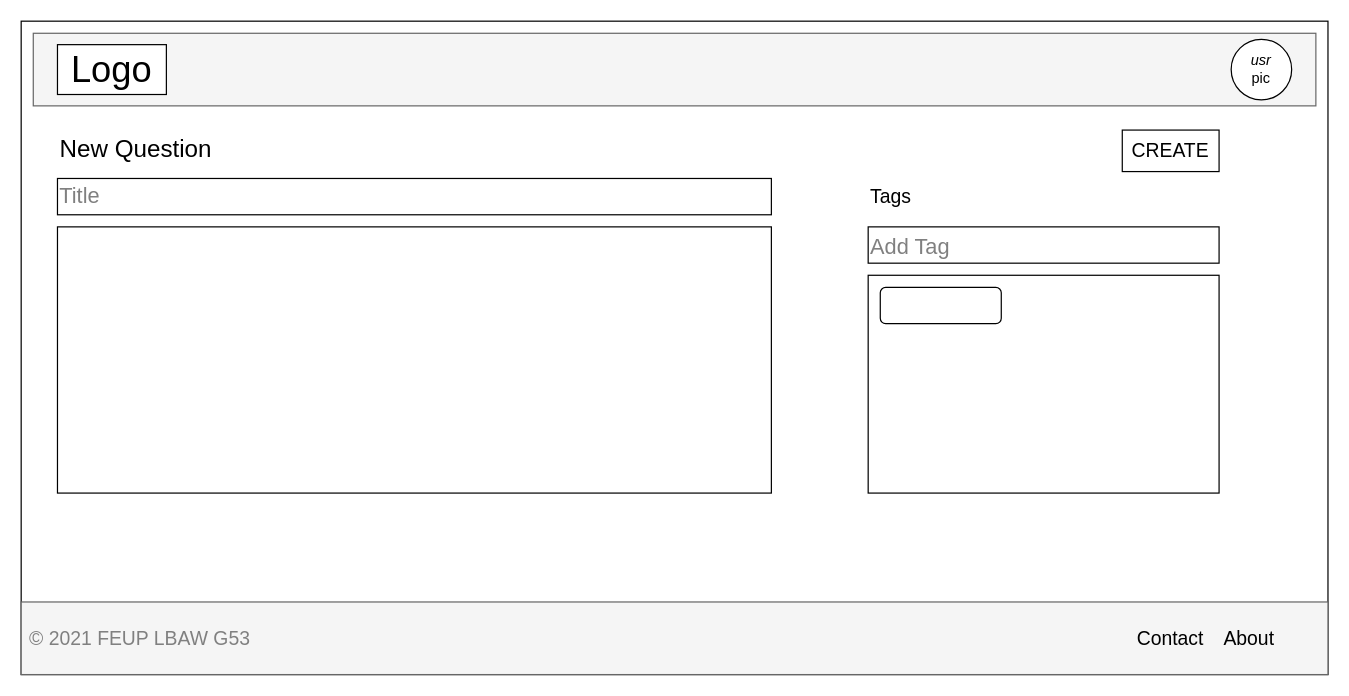
Image size: 1349x696. Some labels were removed from this diagram. The shapes that lost their labels are listed below. From the top down, each one's centre as x and y in pixels, then its label:
At point 940,305: "Example Tag".
At point 413,359: "Body".
